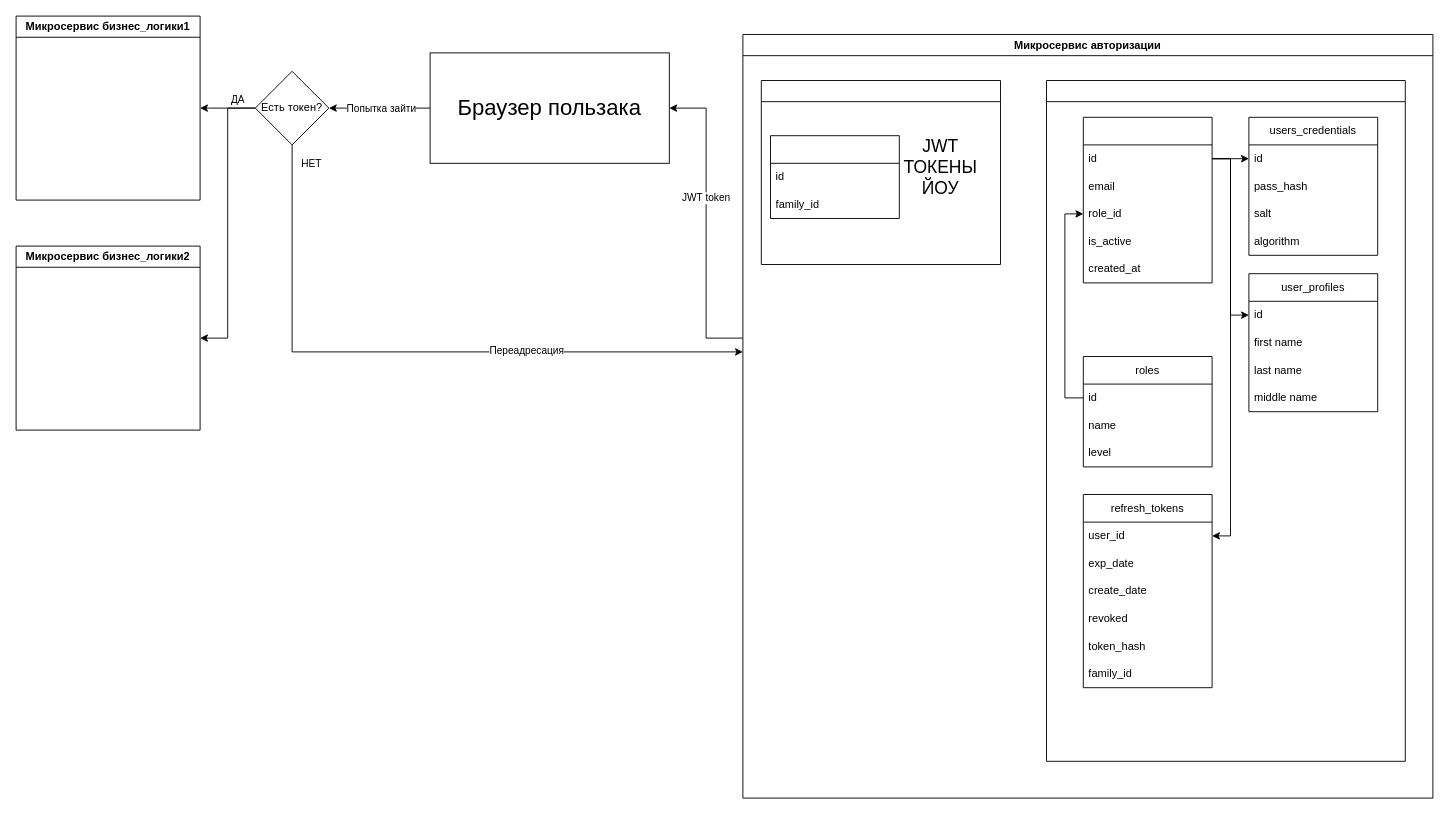
Some shapes in this 1449 by 814 pixel diagram are drawn without their labels. The box of each missing label's shape, as (x1, y1, x2, y2) in pixels:
POSTGRESQL: (1046, 80, 1405, 761)
REDIS: (760, 80, 1000, 264)
tokens_blacklist: (770, 135, 899, 218)
users: (1082, 116, 1212, 283)
